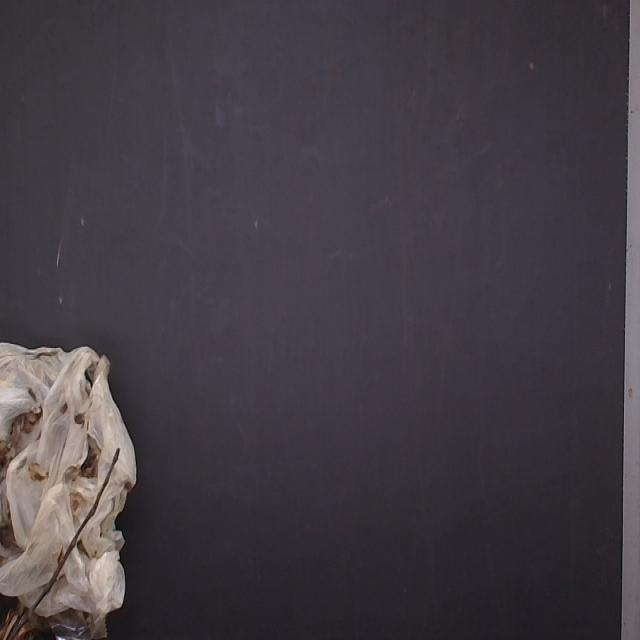plastic_films: (0, 345, 144, 639)
